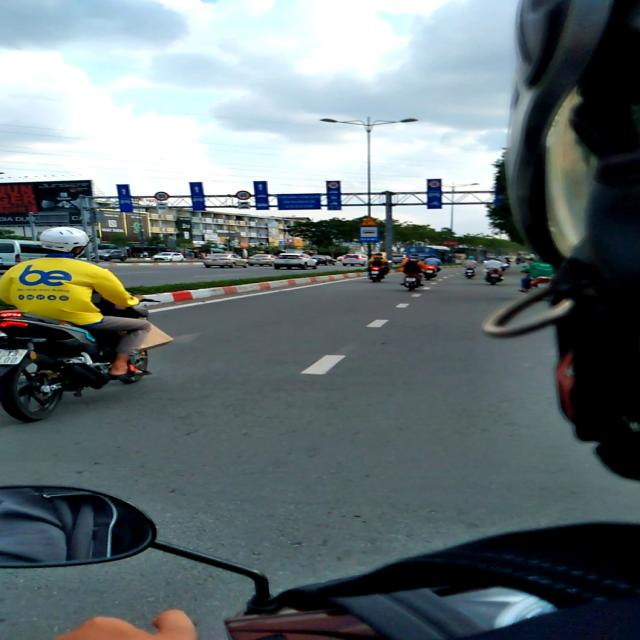Ben xe buyt: (359, 226, 378, 242)
Nguy hiem: (360, 216, 378, 226)
Toc do toi da: (234, 190, 252, 200), (153, 191, 170, 201), (328, 181, 340, 189), (428, 180, 440, 188)
